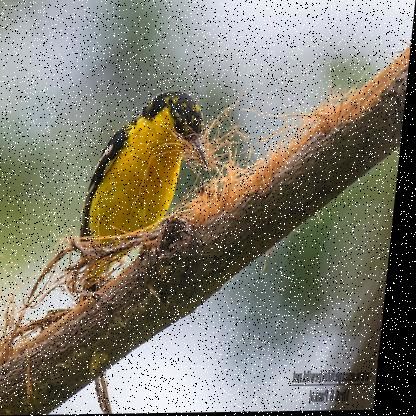Burung: (81, 91, 219, 287)
